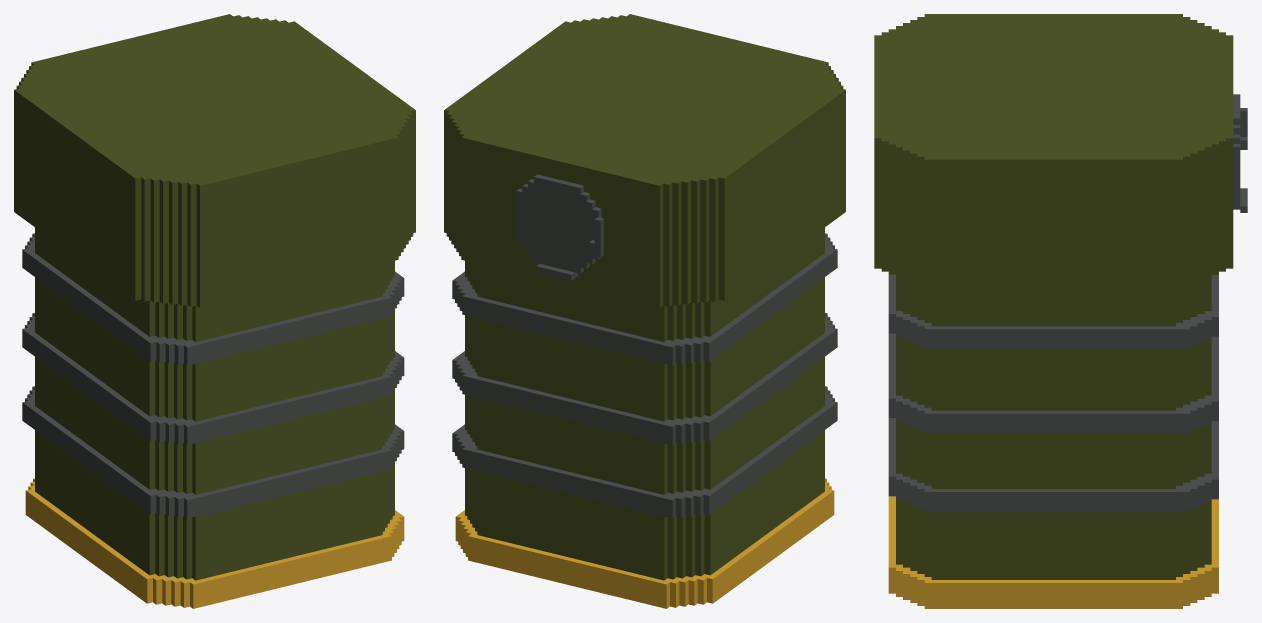
File: armor_trooper_worn_fore.glb
3 renders of one model, left to right at view 1: azimuth 30°, elevation 25°; view 2: azimuth 150°, elevation 25°; view 3: azimuth 270°, elevation 25°, orthographic. The views are drawn at different scales.
Parts seen in each view (by area): view 1: armor_trooper_worn_fore:compound; view 2: armor_trooper_worn_fore:compound; view 3: armor_trooper_worn_fore:compound.
Boxes of the visible parts, <box> form: armor_trooper_worn_fore:compound: <box>14,14,415,608</box>; armor_trooper_worn_fore:compound: <box>444,14,845,608</box>; armor_trooper_worn_fore:compound: <box>874,14,1247,608</box>.
Size of the model in its own units: 0.192 by 0.28 by 0.208.
